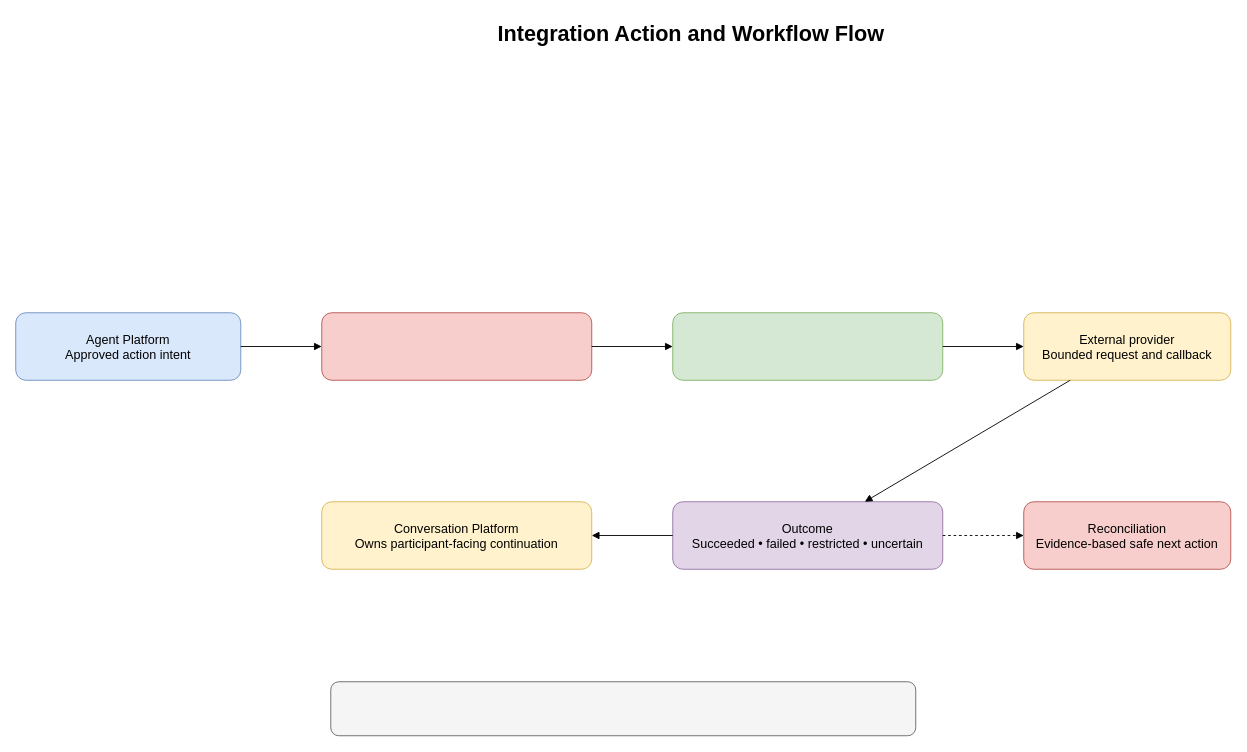
This 1247x752 diagram has some shape labels left out. Each missing label, with the centre of its shape:
Audit + Observability + Operations Evidence • alert/runbook • workflow history: (623,708)
Integration Platform Idempotent dispatch / workflow: (807,346)
Security + Integration Authorization • approval • validation: (456,346)
